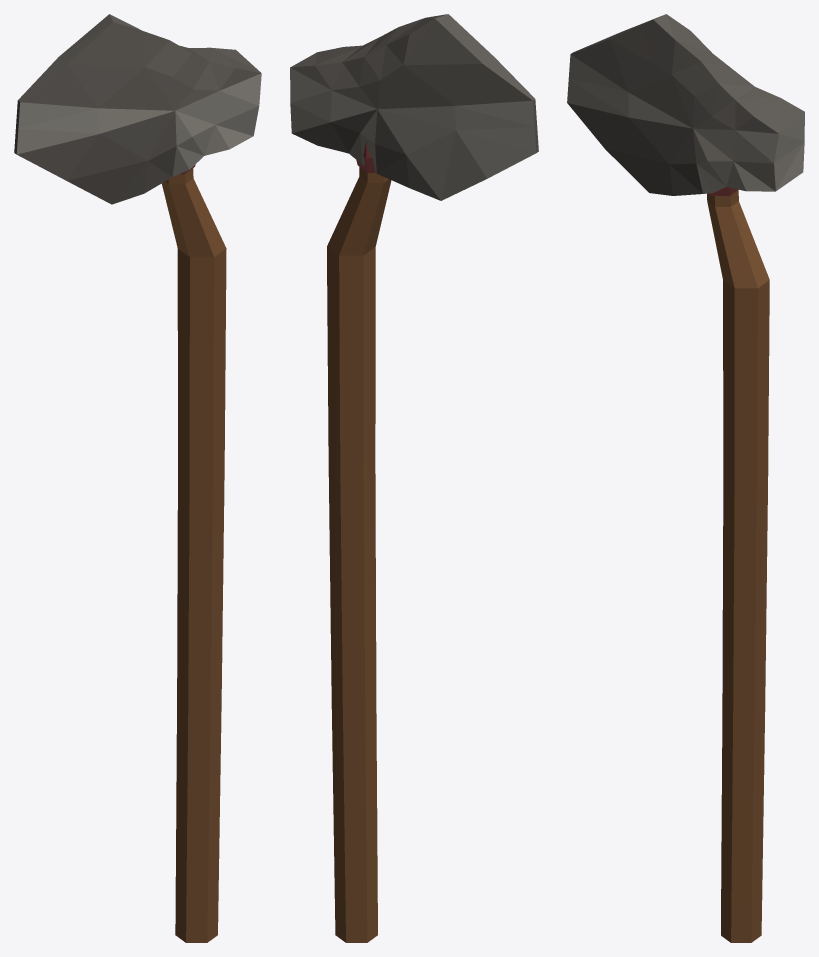
The model's file is wpn_axe_haft_2p5x_86cabh907.fbx.
3 renders of one model, left to right at view 1: azimuth 30°, elevation 25°; view 2: azimuth 150°, elevation 25°; view 3: azimuth 330°, elevation 25°, orthographic. The views are drawn at different scales.
Visible parts, largest first — view 1: wpn_axe_01; view 2: wpn_axe_01; view 3: wpn_axe_01.
Boxes of the visible parts, x1=… form: wpn_axe_01: x1=14, y1=14, x2=261, y2=942; wpn_axe_01: x1=290, y1=14, x2=538, y2=942; wpn_axe_01: x1=567, y1=14, x2=804, y2=942.
Size of the model in its own units: 0.4315 by 0.1037 by 1.65.
